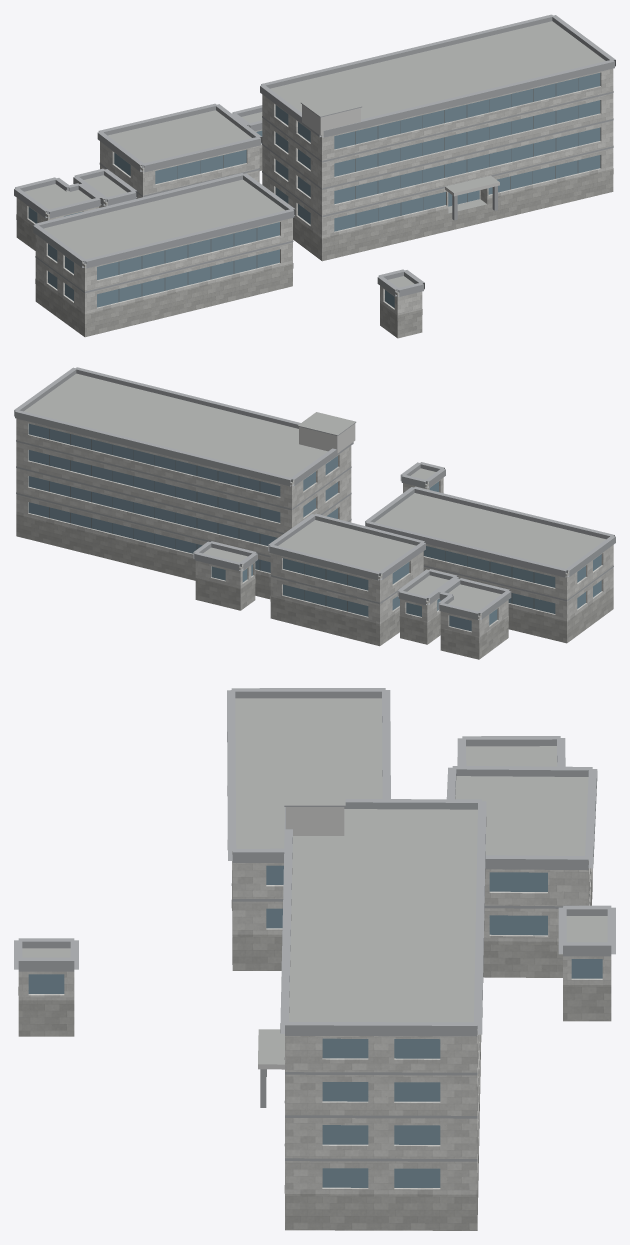
3 renders of one model, top to bottom at view 1: azimuth 30°, elevation 25°; view 2: azimuth 150°, elevation 25°; view 3: azimuth 270°, elevation 25°, orthographic. The views are drawn at different scales.
Parts seen in each view (by area): view 1: mechEngLabN7_3__wall, mechEngLabN7_3__roof, mechEngLabN7_3__glass, mechEngLabN7_3__trim, mechEngLabN7_3__base, mechEngLabN7_3__wall2, mechEngLabN7_3__frame; view 2: mechEngLabN7_3__wall, mechEngLabN7_3__roof, mechEngLabN7_3__trim, mechEngLabN7_3__glass, mechEngLabN7_3__base, mechEngLabN7_3__wall2, mechEngLabN7_3__frame; view 3: mechEngLabN7_3__roof, mechEngLabN7_3__wall, mechEngLabN7_3__trim, mechEngLabN7_3__base, mechEngLabN7_3__glass, mechEngLabN7_3__wall2.
Part boxes in pixels (bbox=[...]): mechEngLabN7_3__wall: bbox=[16, 68, 613, 320]; mechEngLabN7_3__roof: bbox=[24, 21, 605, 293]; mechEngLabN7_3__glass: bbox=[28, 73, 600, 307]; mechEngLabN7_3__trim: bbox=[14, 14, 615, 296]; mechEngLabN7_3__base: bbox=[16, 147, 613, 338]; mechEngLabN7_3__wall2: bbox=[302, 104, 499, 196]; mechEngLabN7_3__frame: bbox=[118, 78, 578, 301]; mechEngLabN7_3__wall: bbox=[16, 418, 613, 642]; mechEngLabN7_3__roof: bbox=[24, 373, 605, 616]; mechEngLabN7_3__trim: bbox=[14, 367, 615, 619]; mechEngLabN7_3__glass: bbox=[28, 423, 601, 631]; mechEngLabN7_3__base: bbox=[16, 514, 613, 659]; mechEngLabN7_3__wall2: bbox=[299, 423, 355, 453]; mechEngLabN7_3__frame: bbox=[49, 429, 534, 611]; mechEngLabN7_3__roof: bbox=[22, 698, 607, 1138]; mechEngLabN7_3__wall: bbox=[18, 851, 611, 1194]; mechEngLabN7_3__trim: bbox=[14, 688, 615, 1161]; mechEngLabN7_3__base: bbox=[18, 868, 611, 1230]; mechEngLabN7_3__glass: bbox=[28, 865, 602, 1187]; mechEngLabN7_3__wall2: bbox=[258, 807, 344, 1069].
Bounding box in the file's own units: 82.22 × 22.55 × 49.3.
Materials: 9 (2 with a texture image).
